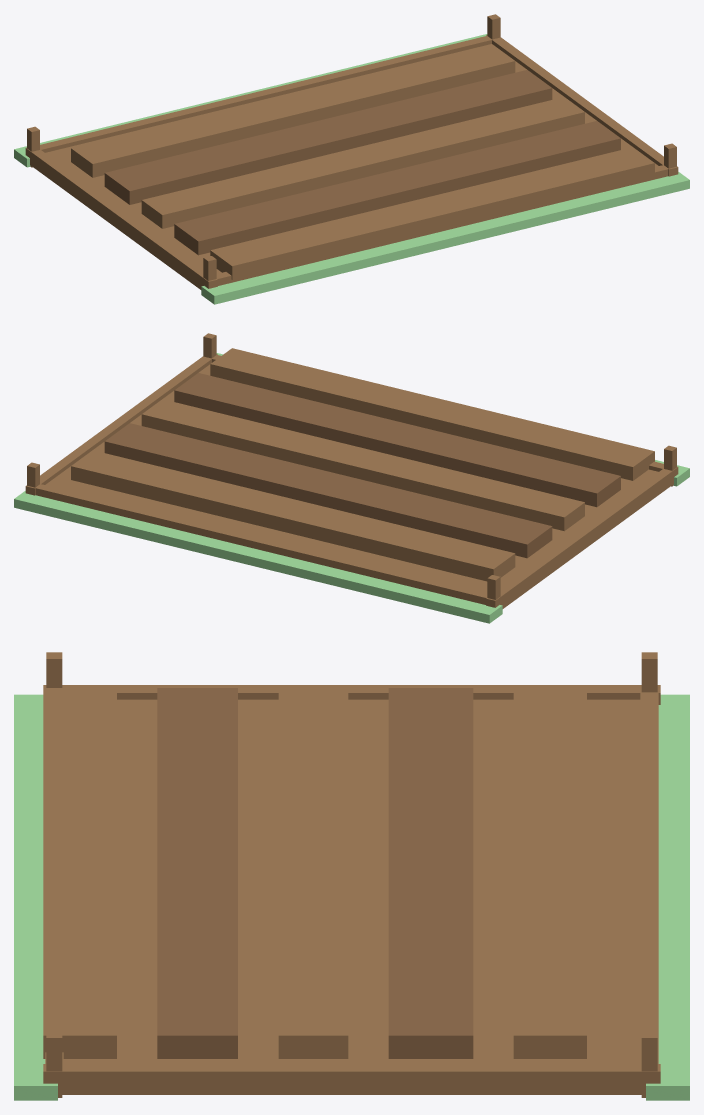
File: ASTX_FIELD_PLOT.glb
3 renders of one model, top to bottom at view 1: azimuth 30°, elevation 25°; view 2: azimuth 150°, elevation 25°; view 3: azimuth 270°, elevation 25°, orthographic. The views are drawn at different scales.
Visible parts, largest first — view 1: ASTX_FIELD_PLOT_ridge1, ASTX_FIELD_PLOT_ridge3, ASTX_FIELD_PLOT_ridge4, ASTX_FIELD_PLOT_ridge0, ASTX_FIELD_PLOT_ridge2, ASTX_FIELD_PLOT_lipS, ASTX_FIELD_PLOT_edgeN, ASTX_FIELD_PLOT_edgeW, ASTX_FIELD_PLOT_soil, ASTX_FIELD_PLOT_edgeE, ASTX_FIELD_PLOT_edgeS, ASTX_FIELD_PLOT_lipN; view 2: ASTX_FIELD_PLOT_ridge1, ASTX_FIELD_PLOT_ridge3, ASTX_FIELD_PLOT_ridge0, ASTX_FIELD_PLOT_ridge4, ASTX_FIELD_PLOT_ridge2, ASTX_FIELD_PLOT_lipN, ASTX_FIELD_PLOT_soil, ASTX_FIELD_PLOT_edgeN, ASTX_FIELD_PLOT_edgeW, ASTX_FIELD_PLOT_edgeE; view 3: ASTX_FIELD_PLOT_soil, ASTX_FIELD_PLOT_ridge1, ASTX_FIELD_PLOT_ridge3, ASTX_FIELD_PLOT_ridge0, ASTX_FIELD_PLOT_ridge4, ASTX_FIELD_PLOT_ridge2, ASTX_FIELD_PLOT_edgeE, ASTX_FIELD_PLOT_lipN, ASTX_FIELD_PLOT_lipS, ASTX_FIELD_PLOT_edgeN, ASTX_FIELD_PLOT_edgeW, ASTX_FIELD_PLOT_post6.1-4.05 (+2 smaller).
Part boxes in pixels (box(x1,y1,x2,y2)): ASTX_FIELD_PLOT_ridge1: box(104, 70, 552, 204); ASTX_FIELD_PLOT_ridge3: box(174, 121, 620, 255); ASTX_FIELD_PLOT_ridge4: box(210, 147, 654, 279); ASTX_FIELD_PLOT_ridge0: box(71, 45, 515, 177); ASTX_FIELD_PLOT_ridge2: box(141, 97, 584, 228); ASTX_FIELD_PLOT_lipS: box(201, 172, 689, 304); ASTX_FIELD_PLOT_edgeN: box(40, 36, 499, 152); ASTX_FIELD_PLOT_edgeW: box(25, 147, 217, 289); ASTX_FIELD_PLOT_soil: box(45, 44, 658, 273); ASTX_FIELD_PLOT_edgeE: box(486, 35, 678, 176); ASTX_FIELD_PLOT_edgeS: box(209, 165, 668, 285); ASTX_FIELD_PLOT_lipN: box(14, 34, 487, 167); ASTX_FIELD_PLOT_ridge1: box(104, 423, 552, 558); ASTX_FIELD_PLOT_ridge3: box(174, 373, 620, 507); ASTX_FIELD_PLOT_ridge0: box(71, 450, 515, 581); ASTX_FIELD_PLOT_ridge4: box(210, 348, 654, 480); ASTX_FIELD_PLOT_ridge2: box(141, 399, 584, 531); ASTX_FIELD_PLOT_lipN: box(14, 491, 502, 623); ASTX_FIELD_PLOT_soil: box(45, 364, 658, 592); ASTX_FIELD_PLOT_edgeN: box(35, 484, 494, 604); ASTX_FIELD_PLOT_edgeW: box(486, 466, 678, 608); ASTX_FIELD_PLOT_edgeE: box(25, 354, 217, 495); ASTX_FIELD_PLOT_soil: box(63, 699, 640, 1063); ASTX_FIELD_PLOT_ridge1: box(388, 688, 473, 1058); ASTX_FIELD_PLOT_ridge3: box(157, 688, 237, 1058); ASTX_FIELD_PLOT_ridge0: box(513, 688, 586, 1058); ASTX_FIELD_PLOT_ridge4: box(43, 688, 116, 1058); ASTX_FIELD_PLOT_ridge2: box(278, 688, 348, 1058); ASTX_FIELD_PLOT_edgeE: box(43, 1064, 660, 1094); ASTX_FIELD_PLOT_lipN: box(646, 694, 689, 1100); ASTX_FIELD_PLOT_lipS: box(14, 694, 57, 1100); ASTX_FIELD_PLOT_edgeN: box(640, 686, 658, 1070); ASTX_FIELD_PLOT_edgeW: box(43, 685, 660, 704); ASTX_FIELD_PLOT_post6.1-4.05: box(641, 1031, 657, 1097).
Bounding box in the file's own units: 12.6 × 0.9 × 9.2.
